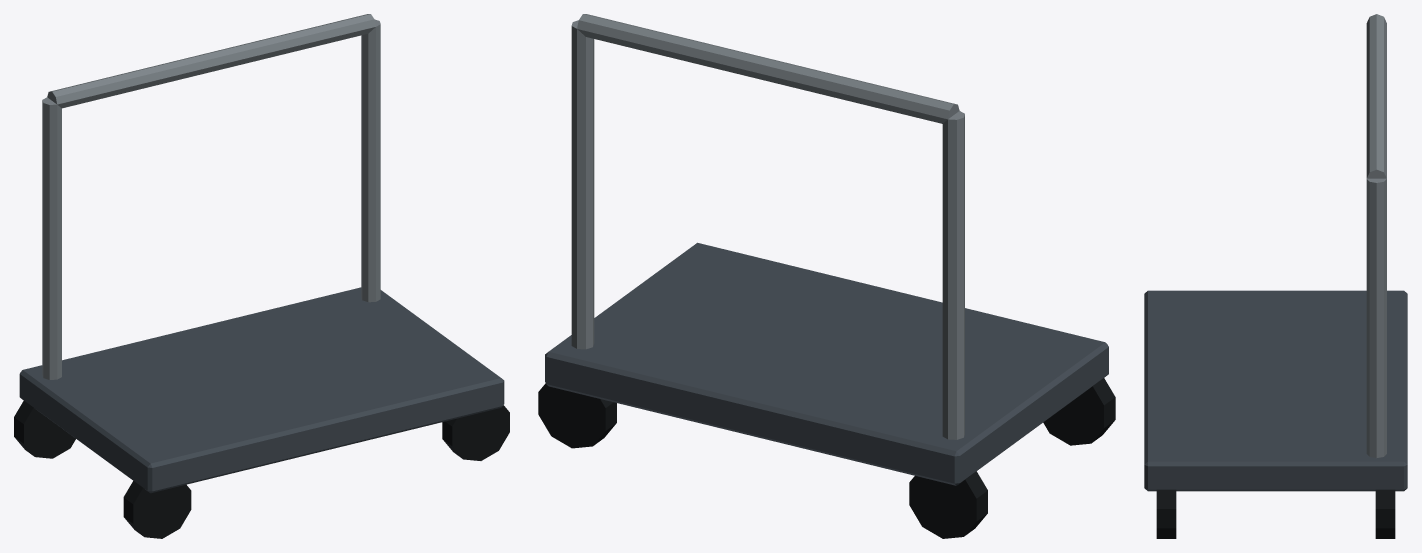
File: WarehouseTrolley.fbx
3 views of the same model, side by side, from view 1: azimuth 30°, elevation 25°; view 2: azimuth 150°, elevation 25°; view 3: azimuth 270°, elevation 25° (orthographic). The views are drawn at different scales.
Visible parts, largest first — view 1: WarehouseTrolley; view 2: WarehouseTrolley; view 3: WarehouseTrolley.
Boxes of the visible parts, bbox=[...] form: WarehouseTrolley: bbox=[14, 14, 509, 538]; WarehouseTrolley: bbox=[538, 14, 1115, 538]; WarehouseTrolley: bbox=[1144, 14, 1407, 538].
Bounding box in the file's own units: 99.22 × 92.3 × 60.
1 material, 1 textured.
